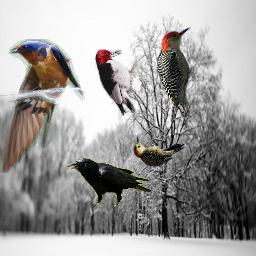Crow: (65, 158, 151, 207)
Swallow: (0, 39, 85, 173)
Woodpecker: (156, 27, 196, 117), (95, 49, 136, 116), (129, 134, 188, 167)
